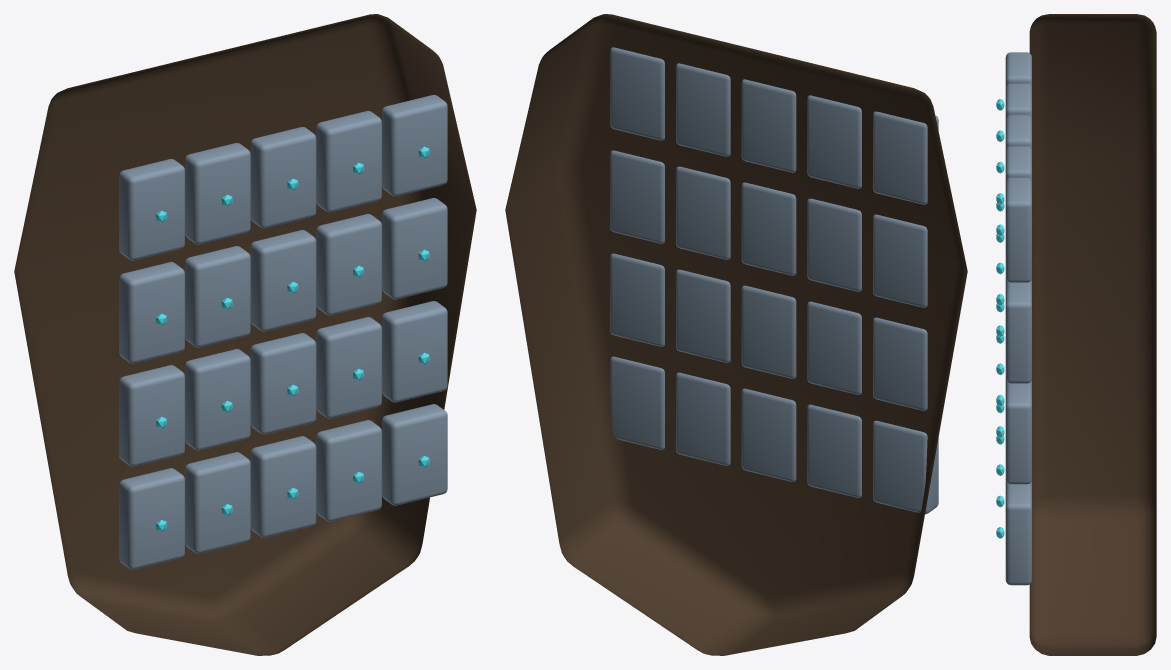
The model's file is cuirass_v2.glb.
The picture shows the model from 3 angles, left to right: view 1: azimuth 30°, elevation 25°; view 2: azimuth 150°, elevation 25°; view 3: azimuth 270°, elevation 25°; orthographic projection. The views are drawn at different scales.
Parts seen in each view (by area): view 1: BRIGANDINE_BODY_SECONDARY, BRIGANDINE_PLATE_PRIMARY.007, BRIGANDINE_PLATE_PRIMARY.012, BRIGANDINE_PLATE_PRIMARY.002, BRIGANDINE_PLATE_PRIMARY.017, BRIGANDINE_PLATE_PRIMARY.005, BRIGANDINE_PLATE_PRIMARY.010, BRIGANDINE_PLATE_PRIMARY.013, BRIGANDINE_PLATE_PRIMARY.001, BRIGANDINE_PLATE_PRIMARY.006, BRIGANDINE_PLATE_PRIMARY.014, BRIGANDINE_PLATE_PRIMARY.016 (+9 smaller); view 2: BRIGANDINE_BODY_SECONDARY, BRIGANDINE_PLATE_PRIMARY.015, BRIGANDINE_PLATE_PRIMARY.007, BRIGANDINE_PLATE_PRIMARY.002, BRIGANDINE_PLATE_PRIMARY.012, BRIGANDINE_PLATE_PRIMARY.017, BRIGANDINE_PLATE_PRIMARY, BRIGANDINE_PLATE_PRIMARY.008, BRIGANDINE_PLATE_PRIMARY.003, BRIGANDINE_PLATE_PRIMARY.005, BRIGANDINE_PLATE_PRIMARY.018, BRIGANDINE_PLATE_PRIMARY.001 (+9 smaller); view 3: BRIGANDINE_BODY_SECONDARY, BRIGANDINE_PLATE_PRIMARY.004, BRIGANDINE_PLATE_PRIMARY.009, BRIGANDINE_PLATE_PRIMARY.019, BRIGANDINE_PLATE_PRIMARY.014, BRIGANDINE_PLATE_PRIMARY.002, BRIGANDINE_PLATE_PRIMARY.001, BRIGANDINE_PLATE_PRIMARY.003, BRIGANDINE_PLATE_PRIMARY.
Boxes of the visible parts, bbox=[...] form: BRIGANDINE_BODY_SECONDARY: bbox=[14, 14, 476, 655]; BRIGANDINE_PLATE_PRIMARY.007: bbox=[250, 230, 316, 331]; BRIGANDINE_PLATE_PRIMARY.012: bbox=[250, 333, 316, 434]; BRIGANDINE_PLATE_PRIMARY.002: bbox=[250, 127, 316, 228]; BRIGANDINE_PLATE_PRIMARY.017: bbox=[250, 436, 316, 537]; BRIGANDINE_PLATE_PRIMARY.005: bbox=[119, 262, 184, 363]; BRIGANDINE_PLATE_PRIMARY.010: bbox=[119, 365, 184, 466]; BRIGANDINE_PLATE_PRIMARY.013: bbox=[316, 317, 381, 418]; BRIGANDINE_PLATE_PRIMARY.001: bbox=[185, 143, 250, 244]; BRIGANDINE_PLATE_PRIMARY.006: bbox=[185, 246, 250, 347]; BRIGANDINE_PLATE_PRIMARY.014: bbox=[382, 301, 447, 402]; BRIGANDINE_PLATE_PRIMARY.016: bbox=[185, 452, 250, 553]; BRIGANDINE_BODY_SECONDARY: bbox=[505, 14, 967, 655]; BRIGANDINE_PLATE_PRIMARY.015: bbox=[873, 420, 938, 514]; BRIGANDINE_PLATE_PRIMARY.007: bbox=[741, 182, 796, 275]; BRIGANDINE_PLATE_PRIMARY.002: bbox=[741, 79, 796, 172]; BRIGANDINE_PLATE_PRIMARY.012: bbox=[741, 285, 796, 378]; BRIGANDINE_PLATE_PRIMARY.017: bbox=[741, 388, 796, 481]; BRIGANDINE_PLATE_PRIMARY: bbox=[873, 111, 938, 204]; BRIGANDINE_PLATE_PRIMARY.008: bbox=[676, 166, 730, 259]; BRIGANDINE_PLATE_PRIMARY.003: bbox=[676, 63, 730, 156]; BRIGANDINE_PLATE_PRIMARY.005: bbox=[873, 214, 927, 307]; BRIGANDINE_PLATE_PRIMARY.018: bbox=[676, 372, 730, 465]; BRIGANDINE_PLATE_PRIMARY.001: bbox=[807, 95, 861, 188]; BRIGANDINE_BODY_SECONDARY: bbox=[1029, 14, 1156, 655]; BRIGANDINE_PLATE_PRIMARY.004: bbox=[1005, 177, 1031, 282]; BRIGANDINE_PLATE_PRIMARY.009: bbox=[1005, 281, 1031, 383]; BRIGANDINE_PLATE_PRIMARY.019: bbox=[1005, 482, 1031, 585]; BRIGANDINE_PLATE_PRIMARY.014: bbox=[1005, 382, 1031, 484]; BRIGANDINE_PLATE_PRIMARY.002: bbox=[1005, 115, 1031, 150]; BRIGANDINE_PLATE_PRIMARY.001: bbox=[1005, 83, 1031, 119]; BRIGANDINE_PLATE_PRIMARY.003: bbox=[1005, 146, 1031, 181]; BRIGANDINE_PLATE_PRIMARY: bbox=[1005, 52, 1031, 87].
Bounding box in the file's own units: 1.76 × 2.31 × 0.6053.
